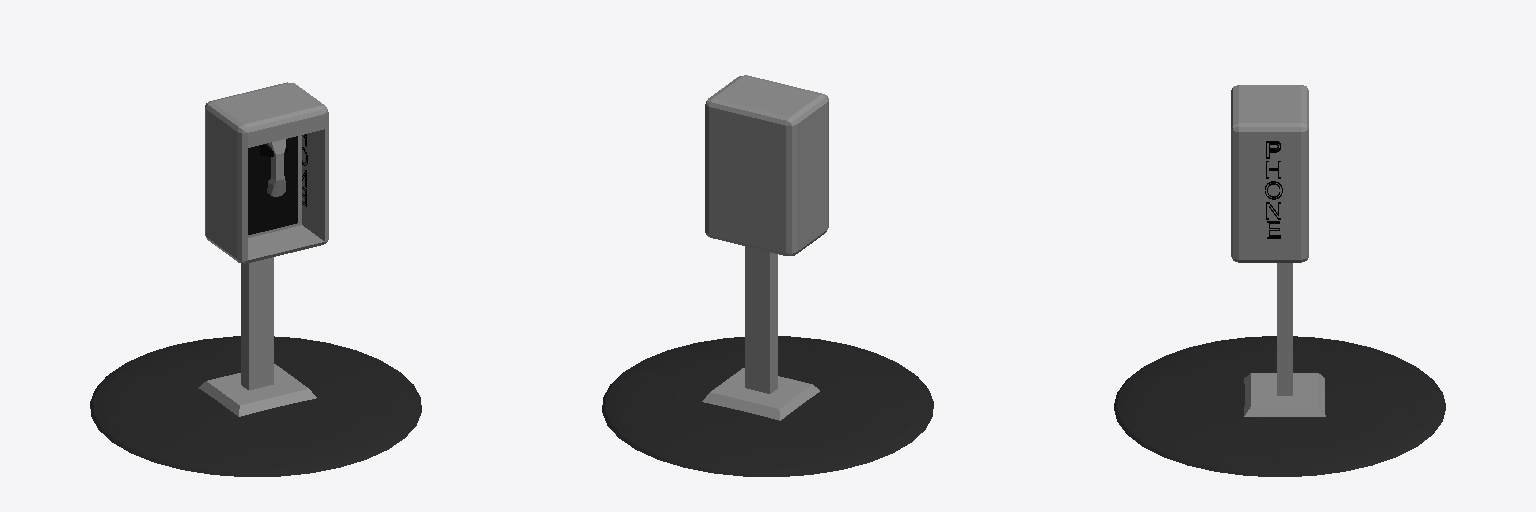
Rendered from Phone_1333.obj.
3 renders of one model, left to right at view 1: azimuth 30°, elevation 25°; view 2: azimuth 150°, elevation 25°; view 3: azimuth 270°, elevation 25°, orthographic.
Visible parts, largest first — view 1: Sphere001, ChamferBox002; view 2: Sphere001, ChamferBox002; view 3: Sphere001, ChamferBox002.
Boxes of the visible parts, x1,y1,x2,y2 form: Sphere001: [90, 336, 421, 476]; ChamferBox002: [198, 82, 328, 416]; Sphere001: [602, 336, 933, 476]; ChamferBox002: [702, 75, 828, 420]; Sphere001: [1114, 336, 1445, 476]; ChamferBox002: [1231, 85, 1325, 416].
Size of the model in its own units: 72.25 by 74.06 by 72.25.